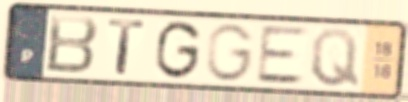B: (43, 12, 101, 77)
E: (254, 24, 313, 86)
G: (152, 18, 204, 82), (205, 22, 258, 84)
Q: (309, 26, 362, 90)
T: (106, 17, 148, 78)
